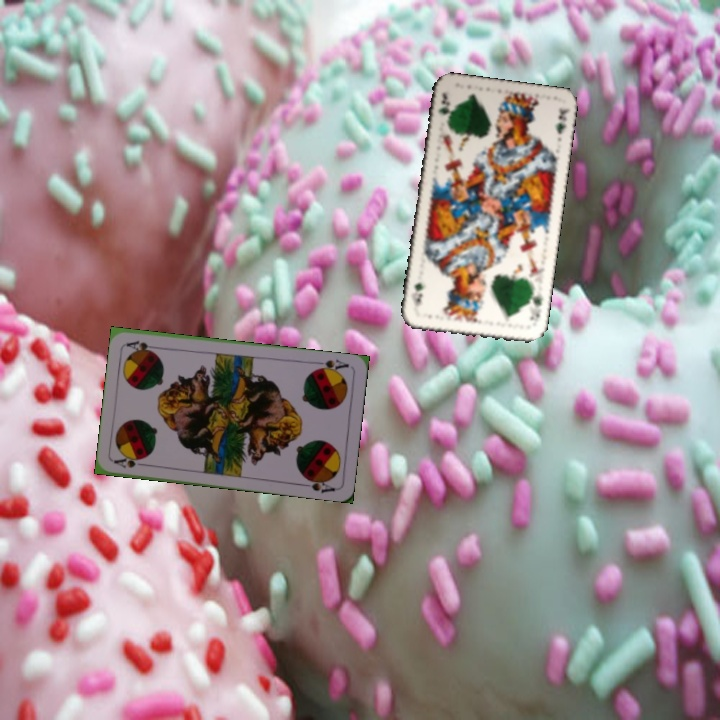GK: (525, 289, 545, 324), (433, 87, 451, 118)
SA: (311, 355, 351, 376), (110, 452, 151, 471)
